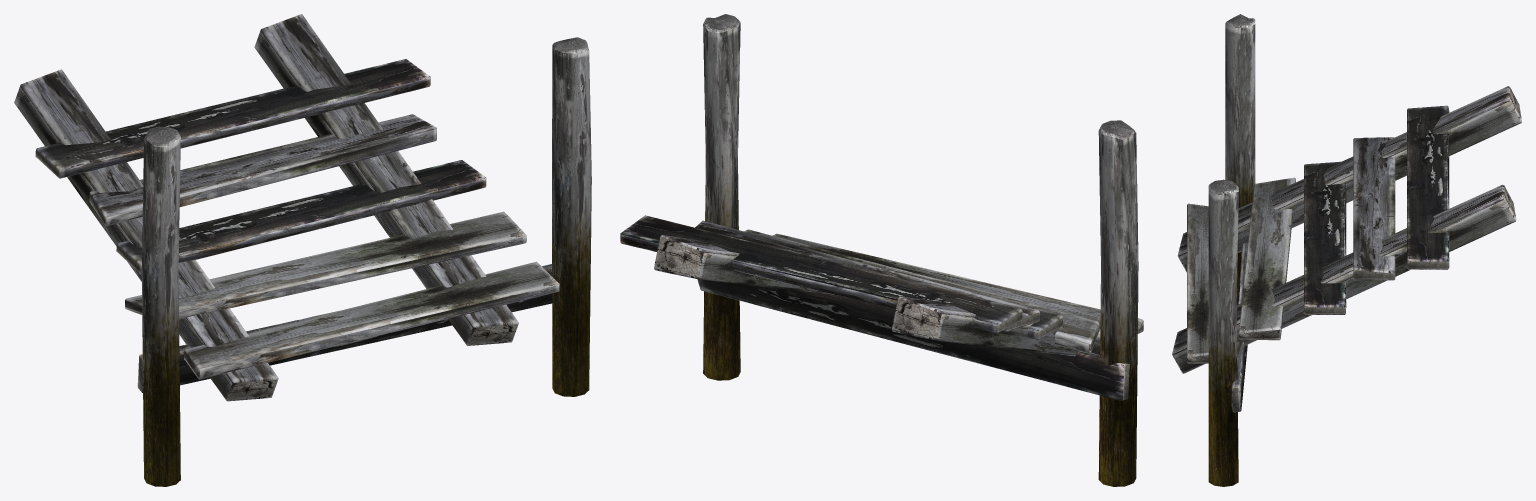
Rendered from dock6.fbx.
3 views of the same model, side by side, from view 1: azimuth 30°, elevation 25°; view 2: azimuth 150°, elevation 25°; view 3: azimuth 270°, elevation 25° (orthographic). The views are drawn at different scales.
Visible parts, largest first — view 1: Mesh; view 2: Mesh; view 3: Mesh.
Part boxes in pixels (<box>): Mesh: <box>14,14,591,486</box>; Mesh: <box>620,14,1143,486</box>; Mesh: <box>1172,14,1521,486</box>.
Size of the model in its own units: 438 by 330 by 355.
